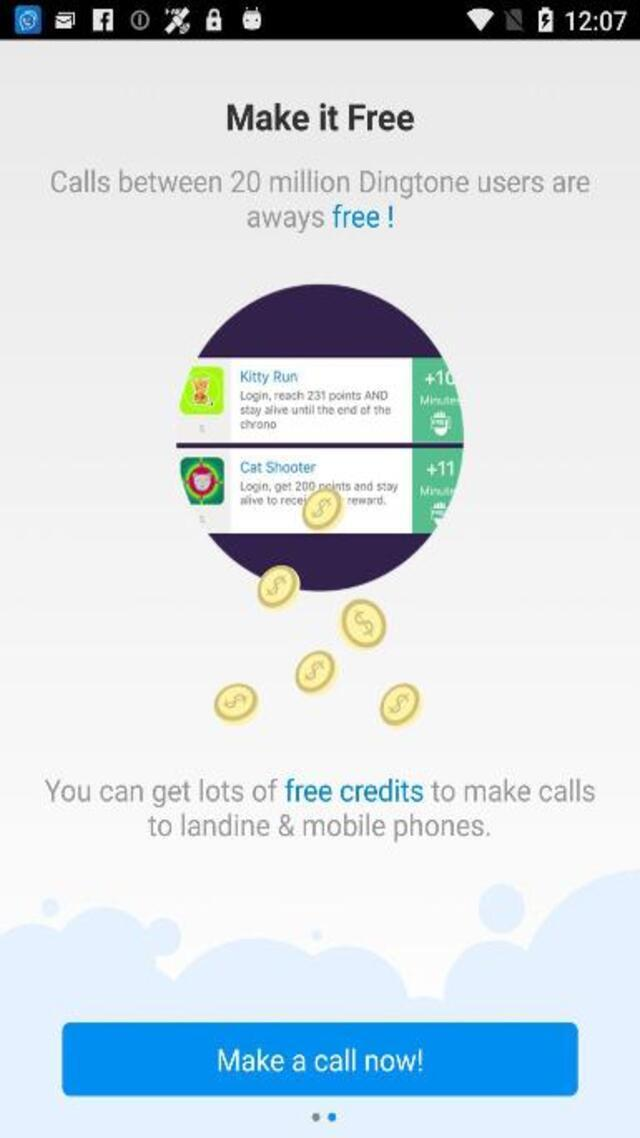Image: (177, 282, 465, 728)
Text: (43, 776, 600, 809), (51, 169, 594, 198), (143, 812, 495, 844), (211, 1046, 429, 1075), (227, 104, 415, 132), (242, 202, 400, 234)
TextButton: (61, 1024, 576, 1096)
